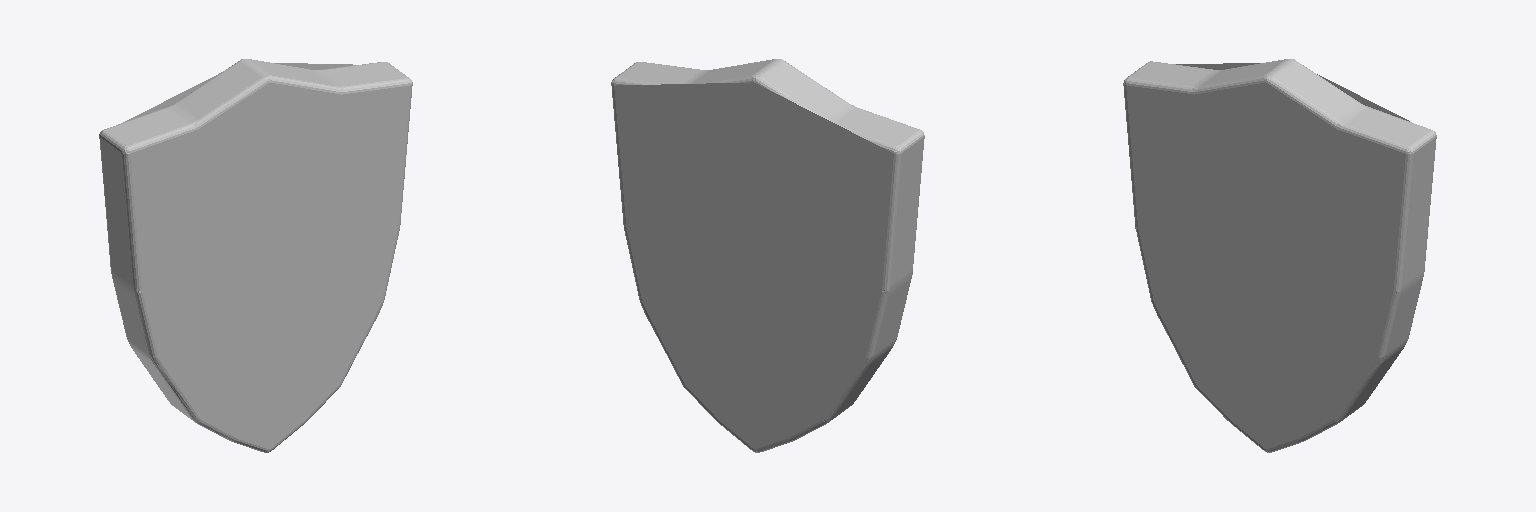
Rendered from ArmourPickup.obj.
3 renders of one model, left to right at view 1: azimuth 30°, elevation 25°; view 2: azimuth 150°, elevation 25°; view 3: azimuth 330°, elevation 25°, orthographic.
Parts seen in each view (by area): view 1: Plane; view 2: Plane; view 3: Plane.
Boxes of the visible parts, box(x1,y1,x2,y2) form: Plane: box(99, 59, 412, 452); Plane: box(611, 59, 924, 452); Plane: box(1123, 59, 1436, 452).
Bounding box in the file's own units: 2.14 × 2.66 × 0.3565.